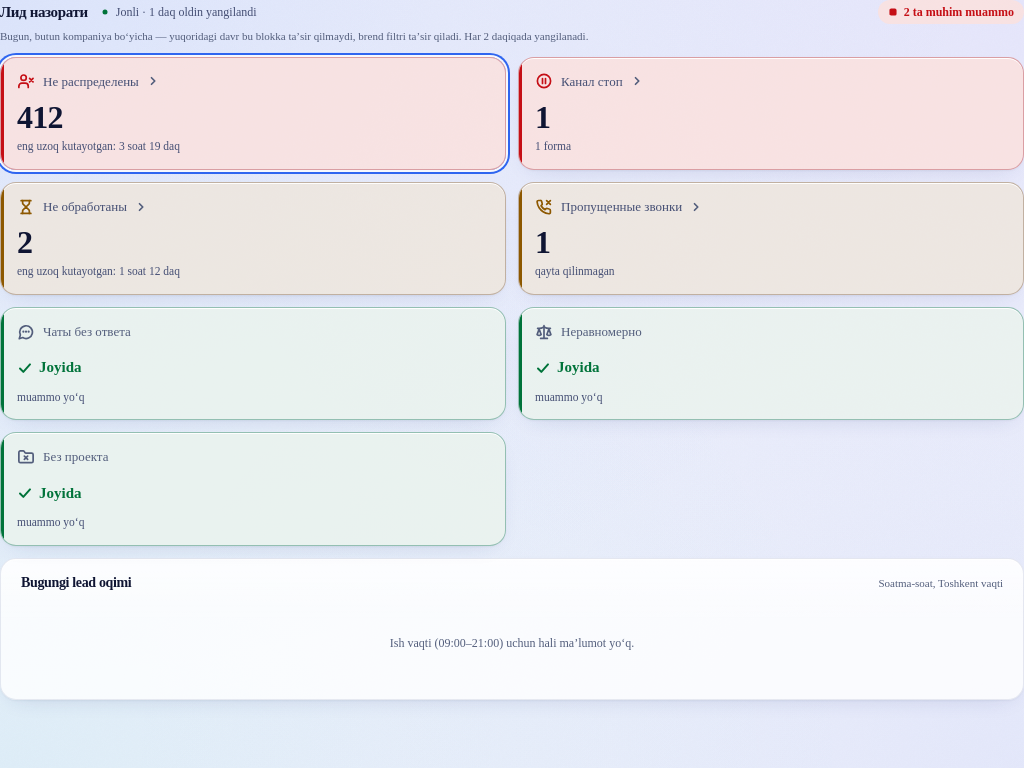
Test case: the drawer › says how many are not listed when the server capped the rows
Check: the text "Не распределены" is shown, box [43,72,139,91]
Click the button "Не распределены 412 eng uzoq kutayotgan: 3 soat 19 daq" at [91, 81], box [0,56,506,170]
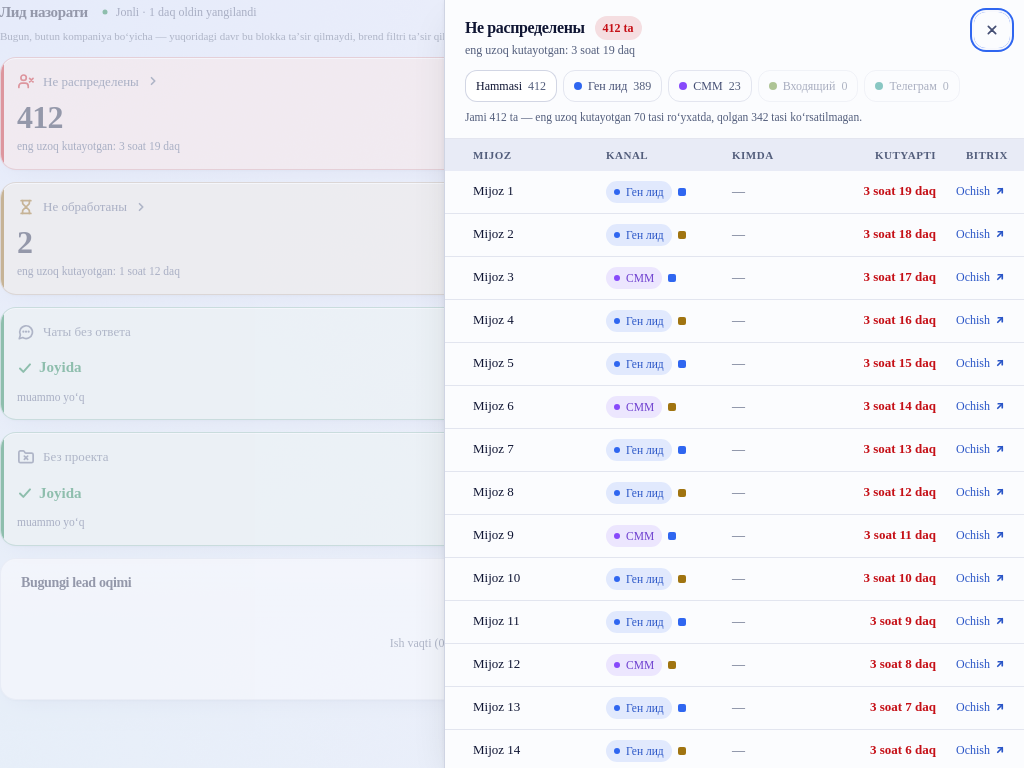
Check: the text "412 ta" is shown, box [594,16,642,40]
Check: the text "Jami 412 ta — eng uzoq kutayotgan 70 tasi roʻyxatda, qolgan 342 tasi koʻrsatilmagan." is shown, box [465,111,862,123]
